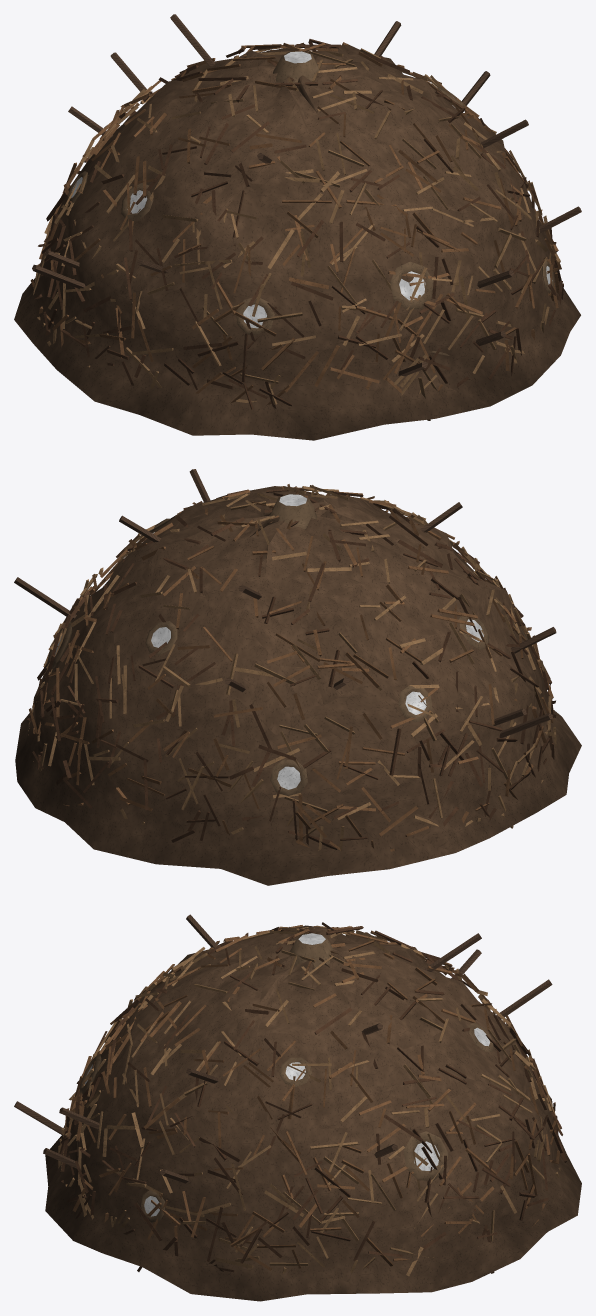
Rendered from habitat_colonie.glb.
3 renders of one model, top to bottom at view 1: azimuth 30°, elevation 25°; view 2: azimuth 150°, elevation 25°; view 3: azimuth 270°, elevation 25°, orthographic. The views are drawn at different scales.
Visible parts, largest first — view 1: habitat_colonie; view 2: habitat_colonie; view 3: habitat_colonie.
Part boxes in pixels (x1=…): habitat_colonie: x1=14, y1=14, x2=581, y2=440; habitat_colonie: x1=14, y1=469, x2=581, y2=885; habitat_colonie: x1=14, y1=914, x2=581, y2=1301.
Size of the model in its own units: 56.64 by 28.9 by 57.36.
7 materials, 7 textured.
